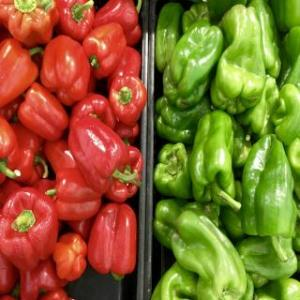bell_pepper: (240, 135, 292, 263), (172, 206, 240, 300), (68, 112, 136, 196), (210, 6, 260, 109), (192, 109, 240, 215), (162, 23, 221, 109), (0, 186, 60, 270), (88, 202, 138, 280), (42, 34, 90, 102), (82, 21, 126, 76), (110, 70, 146, 122)
